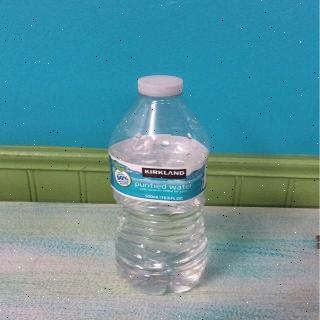Plastic-bottle: (101, 75, 217, 303)
